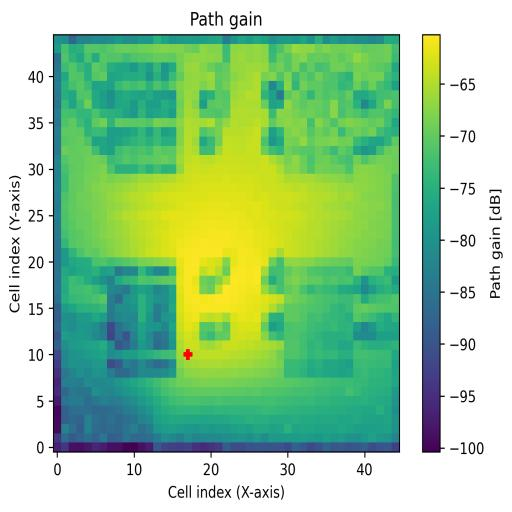Concrete: (284, 57, 354, 172)
Glass: (108, 62, 176, 174)
Metal: (284, 257, 354, 376)
Wood: (107, 258, 177, 378)
